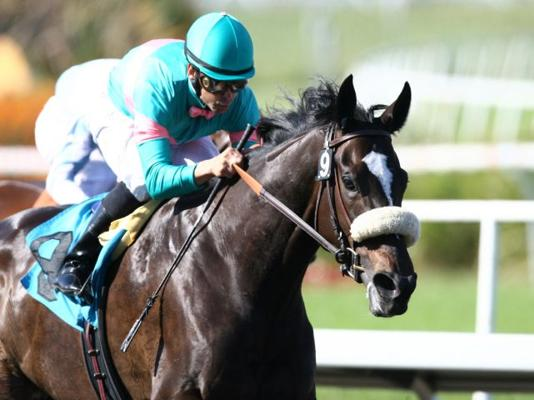person: (29, 13, 264, 294)
